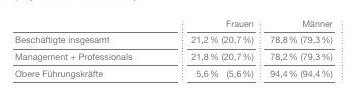table: (0, 0, 359, 100)
